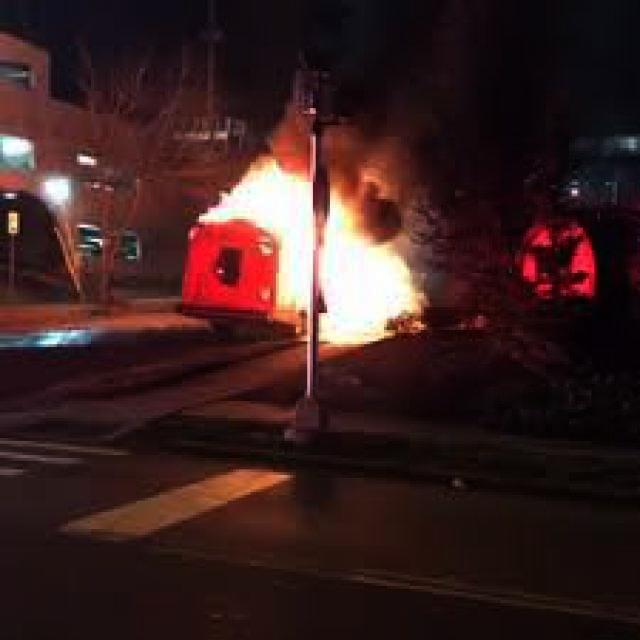fire: (246, 154, 426, 341)
